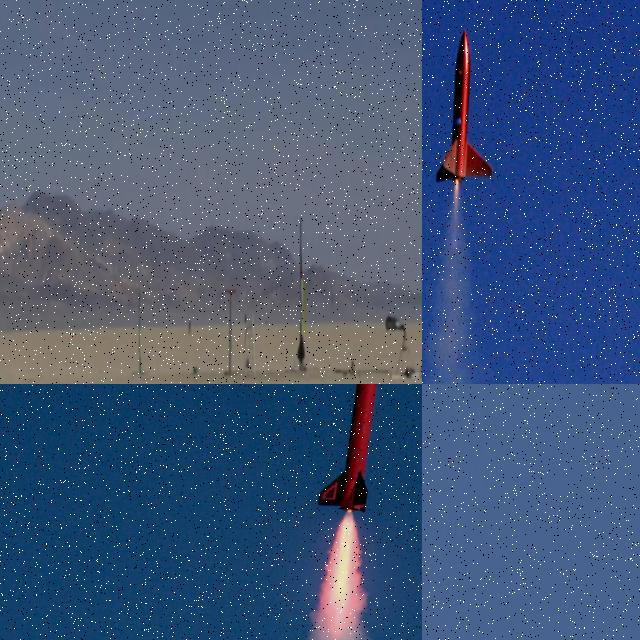Rocket: (434, 29, 494, 184), (318, 384, 382, 513), (295, 216, 306, 364)
